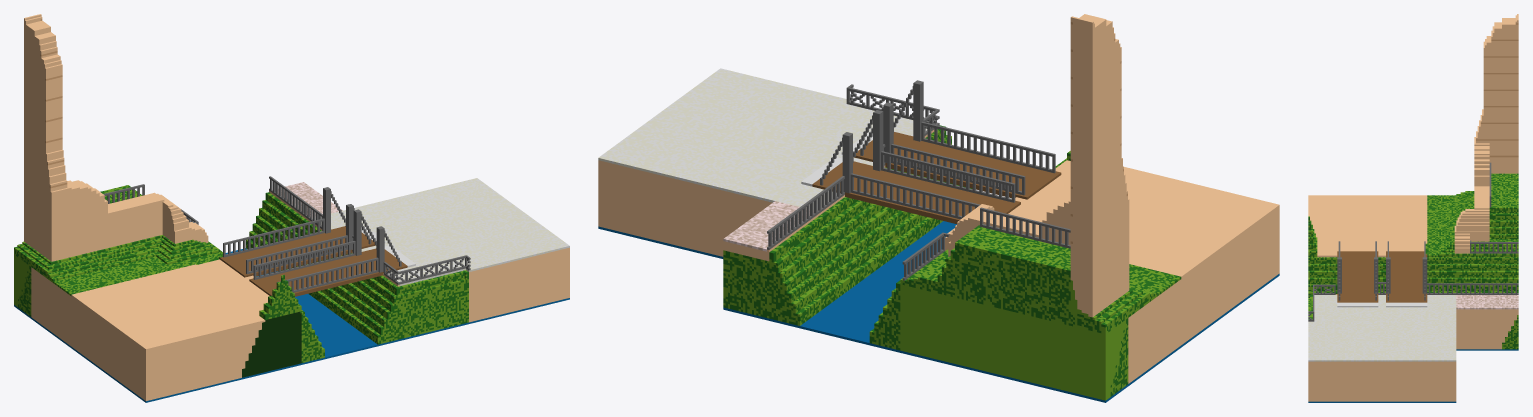
Rendered from castelloVillafranca-44.obj.
3 renders of one model, left to right at view 1: azimuth 30°, elevation 25°; view 2: azimuth 150°, elevation 25°; view 3: azimuth 270°, elevation 25°, orthographic. The views are drawn at different scales.
Size of the model in its own units: 25.6 by 16.5 by 13.8.
1 material, 1 textured.
